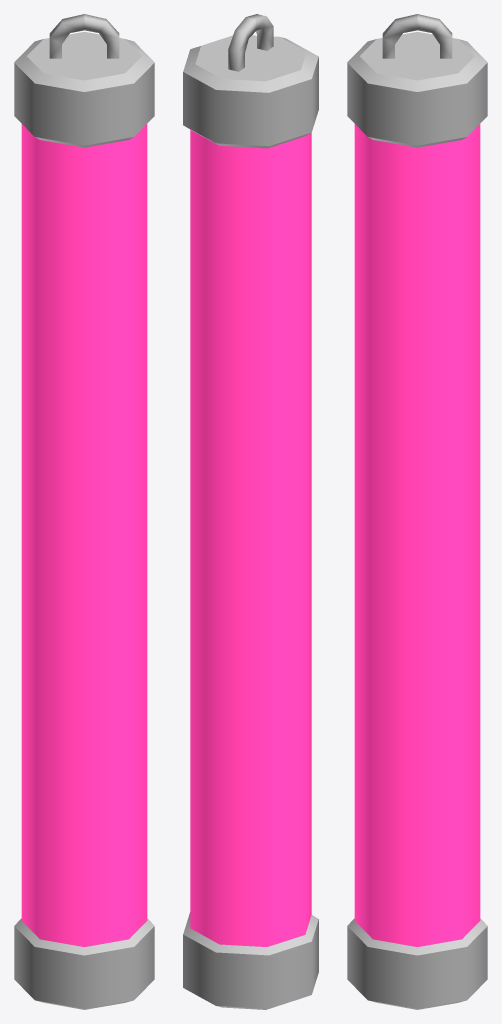
Rendered from DevGlowStick.fbx.
3 views of the same model, side by side, from view 1: azimuth 90°, elevation 25°; view 2: azimuth 150°, elevation 25°; view 3: azimuth 270°, elevation 25° (orthographic).
Parts seen in each view (by area): view 1: Cylinder.001; view 2: Cylinder.001; view 3: Cylinder.001.
Boxes of the visible parts, box(x1,y1,x2,y2) form: Cylinder.001: box(14, 14, 154, 1009); Cylinder.001: box(183, 14, 318, 1009); Cylinder.001: box(347, 14, 487, 1009).
Bounding box in the file's own units: 4.14 × 4.14 × 31.45.
